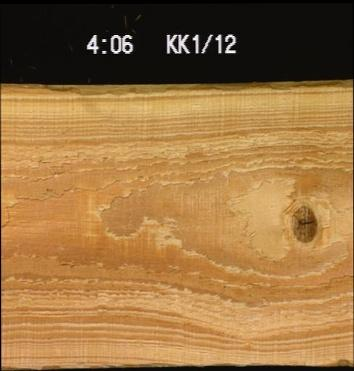sound_knot: (288, 202, 320, 244)
wave: (0, 79, 352, 93)
